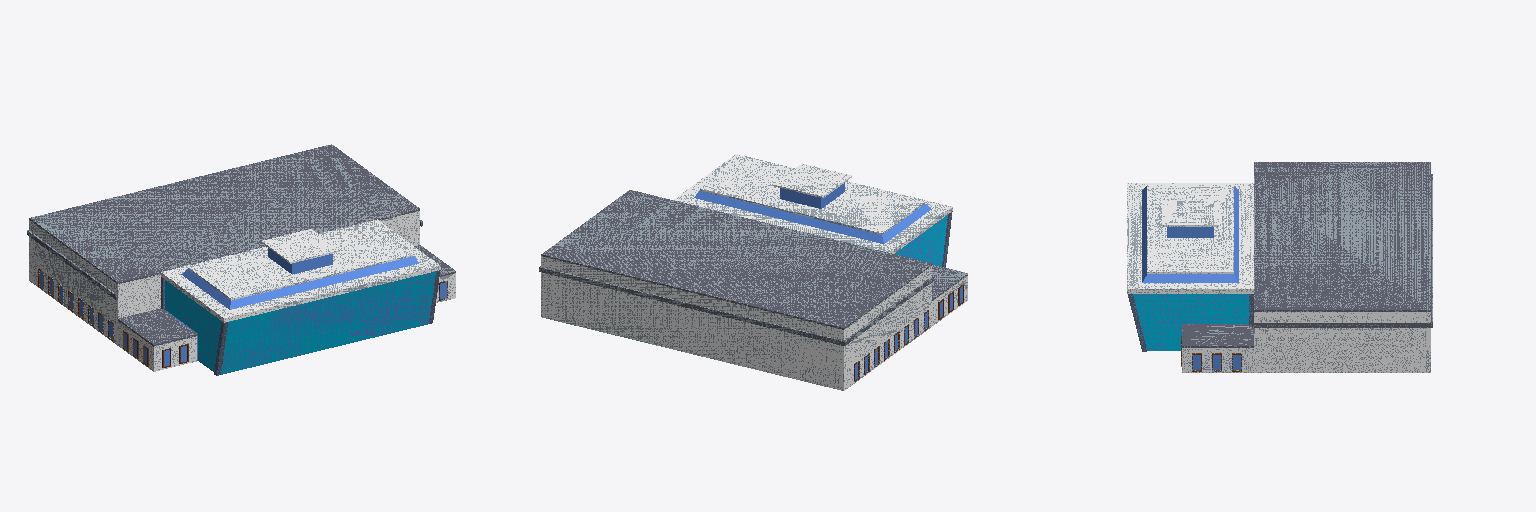
3 renders of one model, left to right at view 1: azimuth 30°, elevation 25°; view 2: azimuth 150°, elevation 25°; view 3: azimuth 270°, elevation 25°, orthographic.
Visible parts, largest first — view 1: Mesh17 Model; view 2: Mesh17 Model; view 3: Mesh17 Model.
Boxes of the visible parts, <box> form: Mesh17 Model: <box>27,144,455,375</box>; Mesh17 Model: <box>539,154,967,390</box>; Mesh17 Model: <box>1127,162,1432,372</box>.
Bounding box in the file's own units: 35.55 × 9.6 × 30.7.
7 materials, 2 textured.